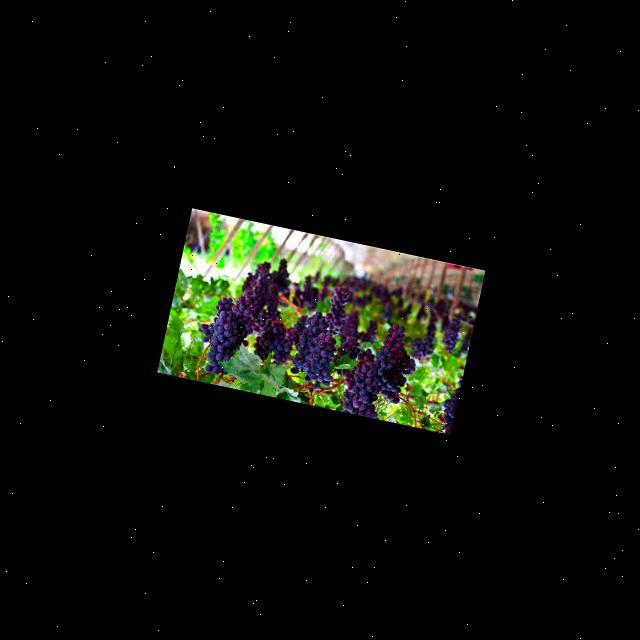grape: (186, 244, 477, 434)
